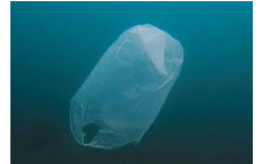kantong: (64, 21, 188, 155)
